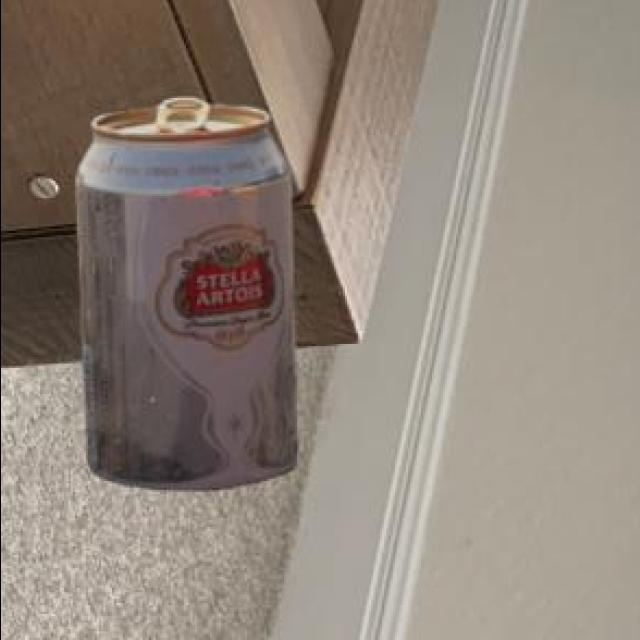logam: (77, 95, 299, 487)
